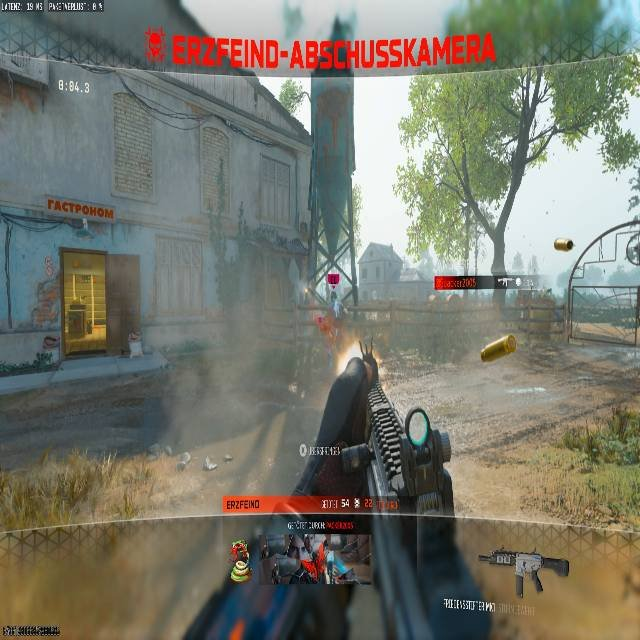player: (331, 290, 342, 316)
